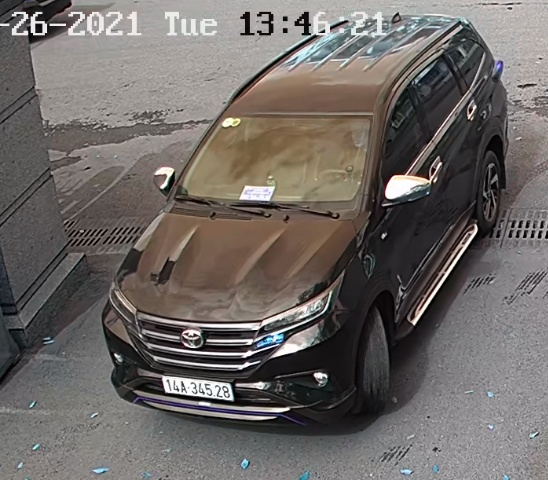vehicle plate: (154, 373, 239, 400)
